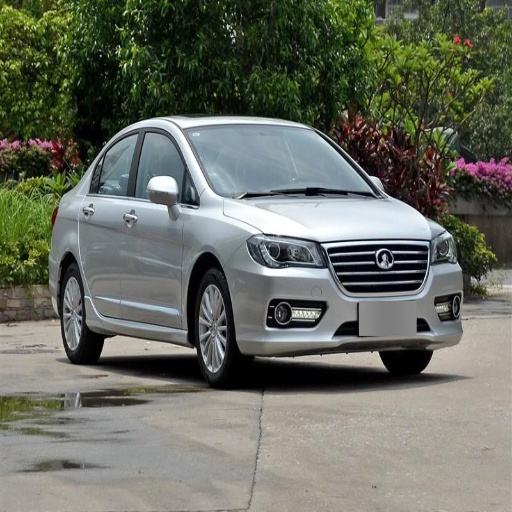front_bumper: (230, 238, 462, 358)
front_right_door: (120, 126, 193, 326)
front_right_light: (247, 232, 323, 268)
